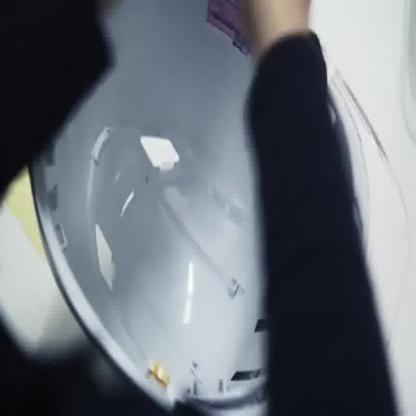helmet: (28, 0, 413, 415)
